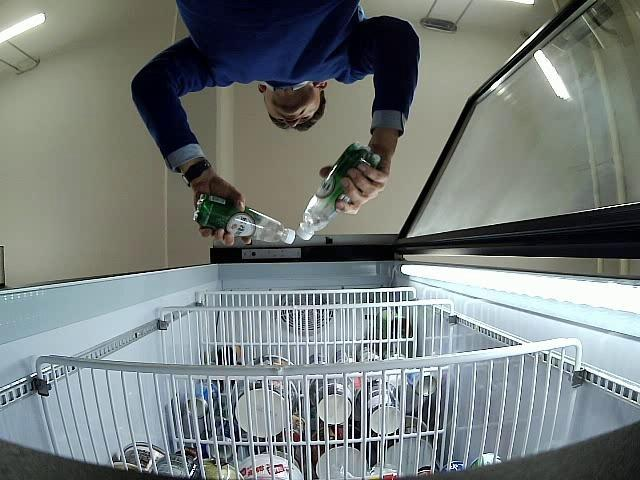18_trevi: (297, 141, 380, 241), (194, 191, 296, 246)
